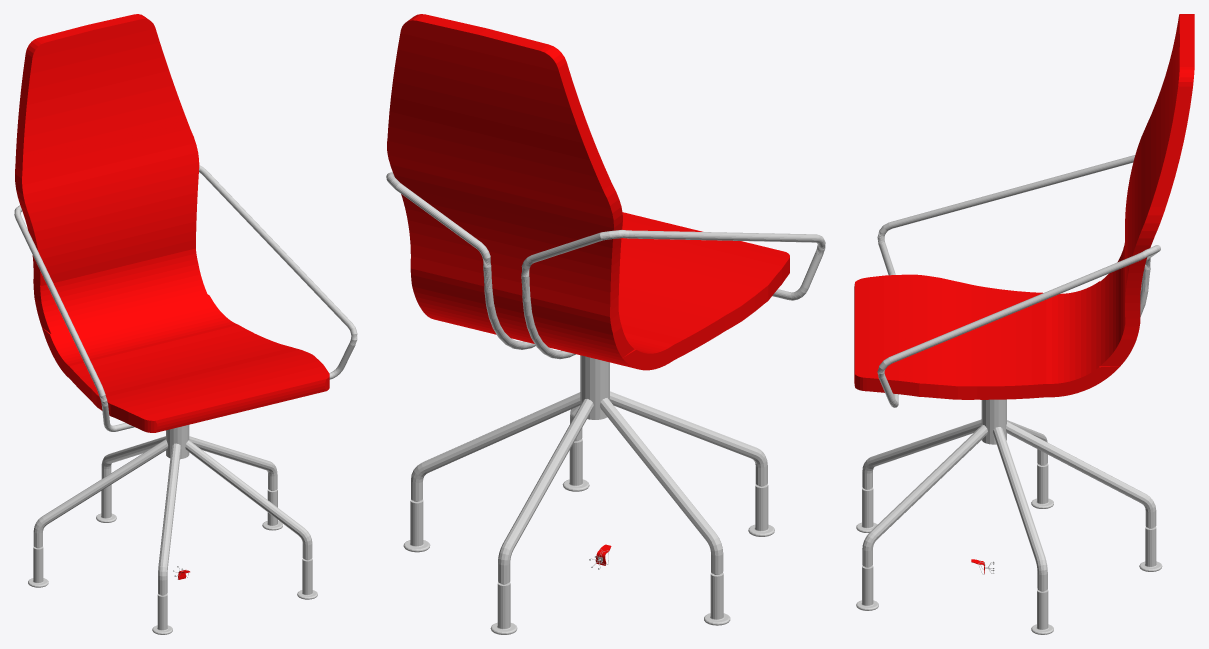
Rendered from Chair.glb.
3 renders of one model, left to right at view 1: azimuth 30°, elevation 25°; view 2: azimuth 150°, elevation 25°; view 3: azimuth 270°, elevation 25°, orthographic. The views are drawn at different scales.
Parts seen in each view (by area): view 1: 286C, AC; view 2: 286C, AC; view 3: 286C, AC.
Boxes of the visible parts, left/top/right/bottom form: 286C: left=15, top=14, right=329, bottom=432; AC: left=14, top=165, right=357, bottom=634; 286C: left=387, top=14, right=789, bottom=370; AC: left=386, top=172, right=825, bottom=634; 286C: left=854, top=14, right=1194, bottom=399; AC: left=856, top=155, right=1162, bottom=634.
Bounding box in the file's own units: 14.08 × 25.26 × 14.64.
